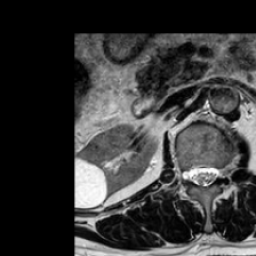CCS_normal: (199, 157, 207, 196)
LFS_normal: (218, 157, 227, 186)
LLS_normal: (207, 157, 218, 190)
RFS_normal: (179, 158, 188, 188)
RLS_normal: (188, 155, 199, 191)
